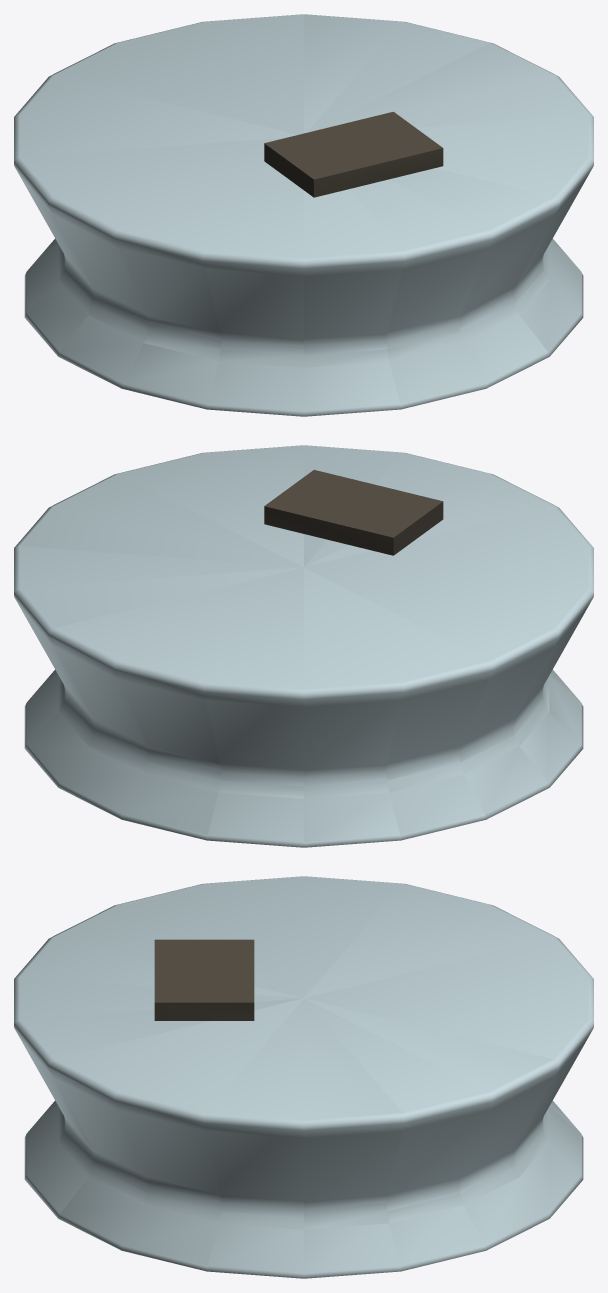
Rendered from ashtray.glb.
3 views of the same model, one above another, from view 1: azimuth 30°, elevation 25°; view 2: azimuth 150°, elevation 25°; view 3: azimuth 270°, elevation 25° (orthographic).
Parts seen in each view (by area): view 1: ashtray; view 2: ashtray; view 3: ashtray.
Part boxes in pixels (box(x1,y1,x2,y2)): ashtray: box(14, 14, 593, 416); ashtray: box(14, 445, 593, 847); ashtray: box(14, 876, 593, 1278).
Size of the model in its own units: 0.1183 by 0.042 by 0.1165.
